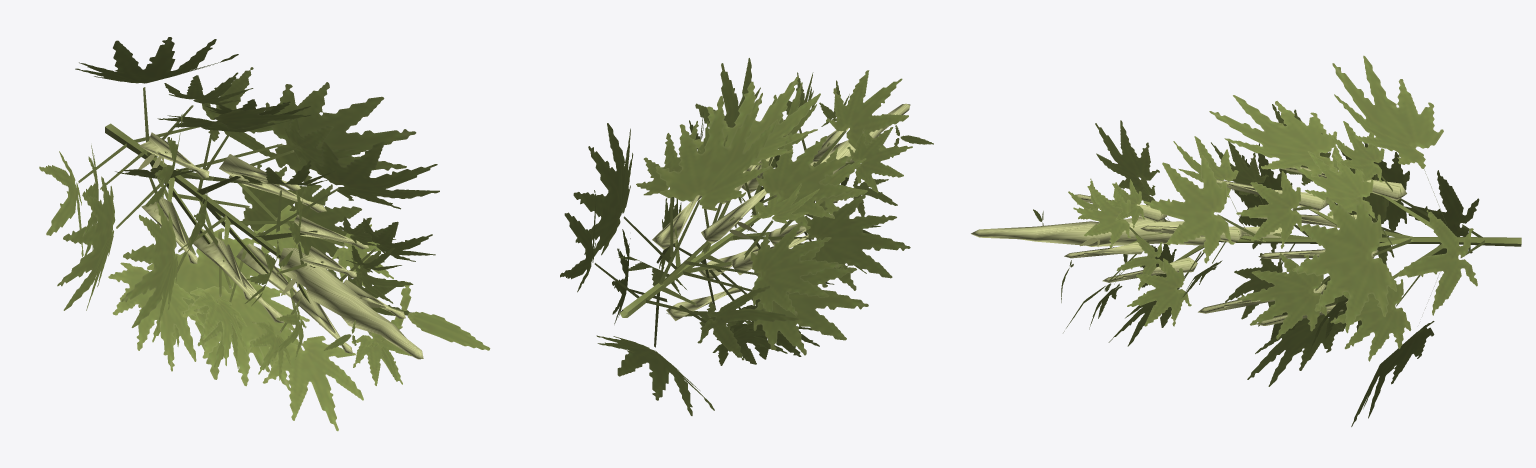
File: p_frosty_haze_flowering_c1_cards.obj
3 views of the same model, side by side, from view 1: azimuth 30°, elevation 25°; view 2: azimuth 150°, elevation 25°; view 3: azimuth 270°, elevation 25° (orthographic). The views are drawn at different scales.
Bounding box in the file's own units: 1.45 × 1.53 × 2.03.
1 material, 1 textured.
